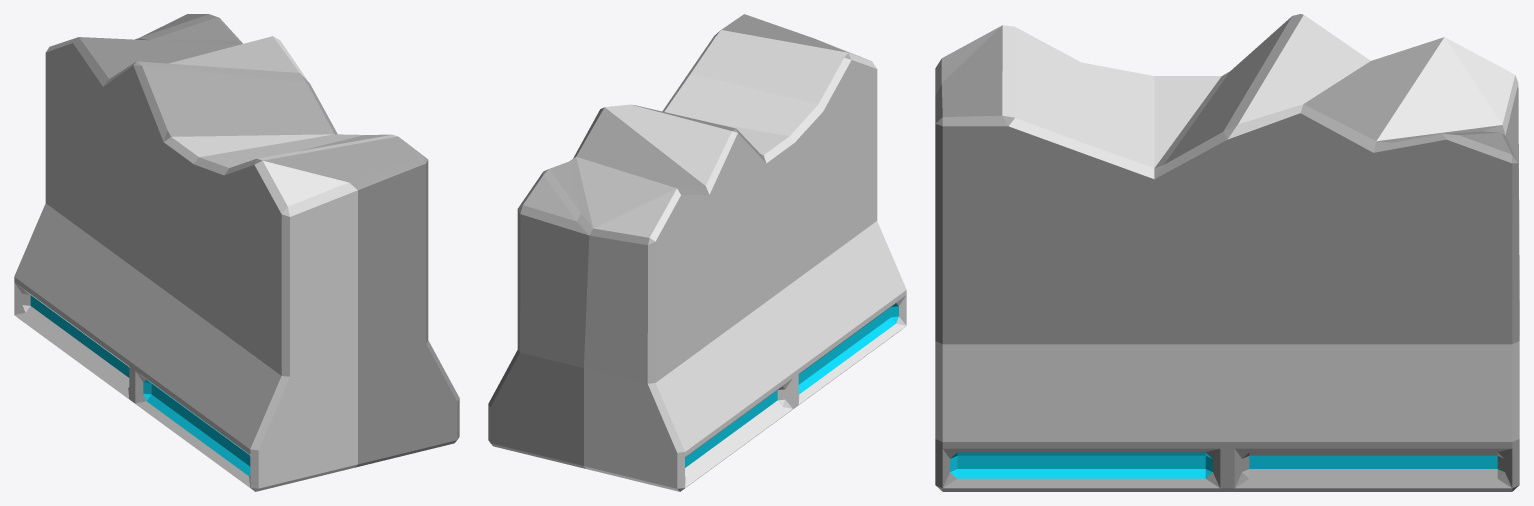
The model's file is WallsBrokeTestUVBottomfbx.fbx.
3 views of the same model, side by side, from view 1: azimuth 30°, elevation 25°; view 2: azimuth 150°, elevation 25°; view 3: azimuth 270°, elevation 25° (orthographic). The views are drawn at different scales.
Visible parts, largest first — view 1: WallBrokenBottom; view 2: WallBrokenBottom; view 3: WallBrokenBottom.
Part boxes in pixels (left/top/right/bottom): WallBrokenBottom: left=14, top=14, right=459, bottom=491; WallBrokenBottom: left=488, top=14, right=906, bottom=491; WallBrokenBottom: left=935, top=14, right=1519, bottom=491.
Bounding box in the file's own units: 200 × 286 × 400.
